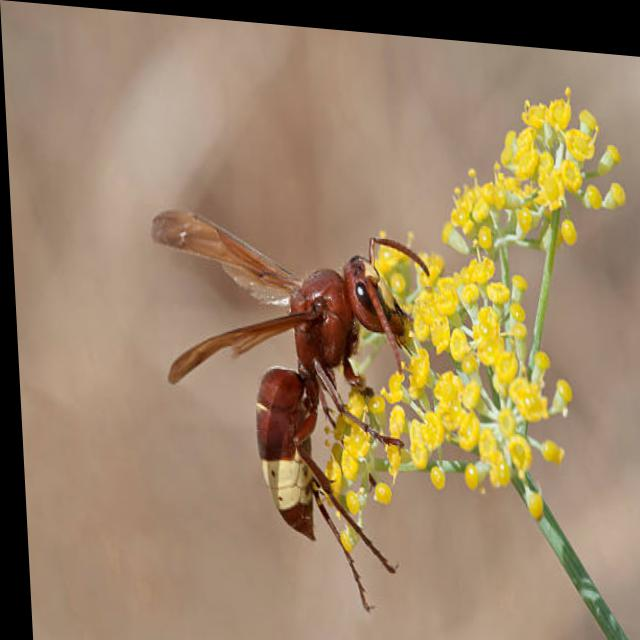Vespa Crabro: (122, 151, 466, 624)
